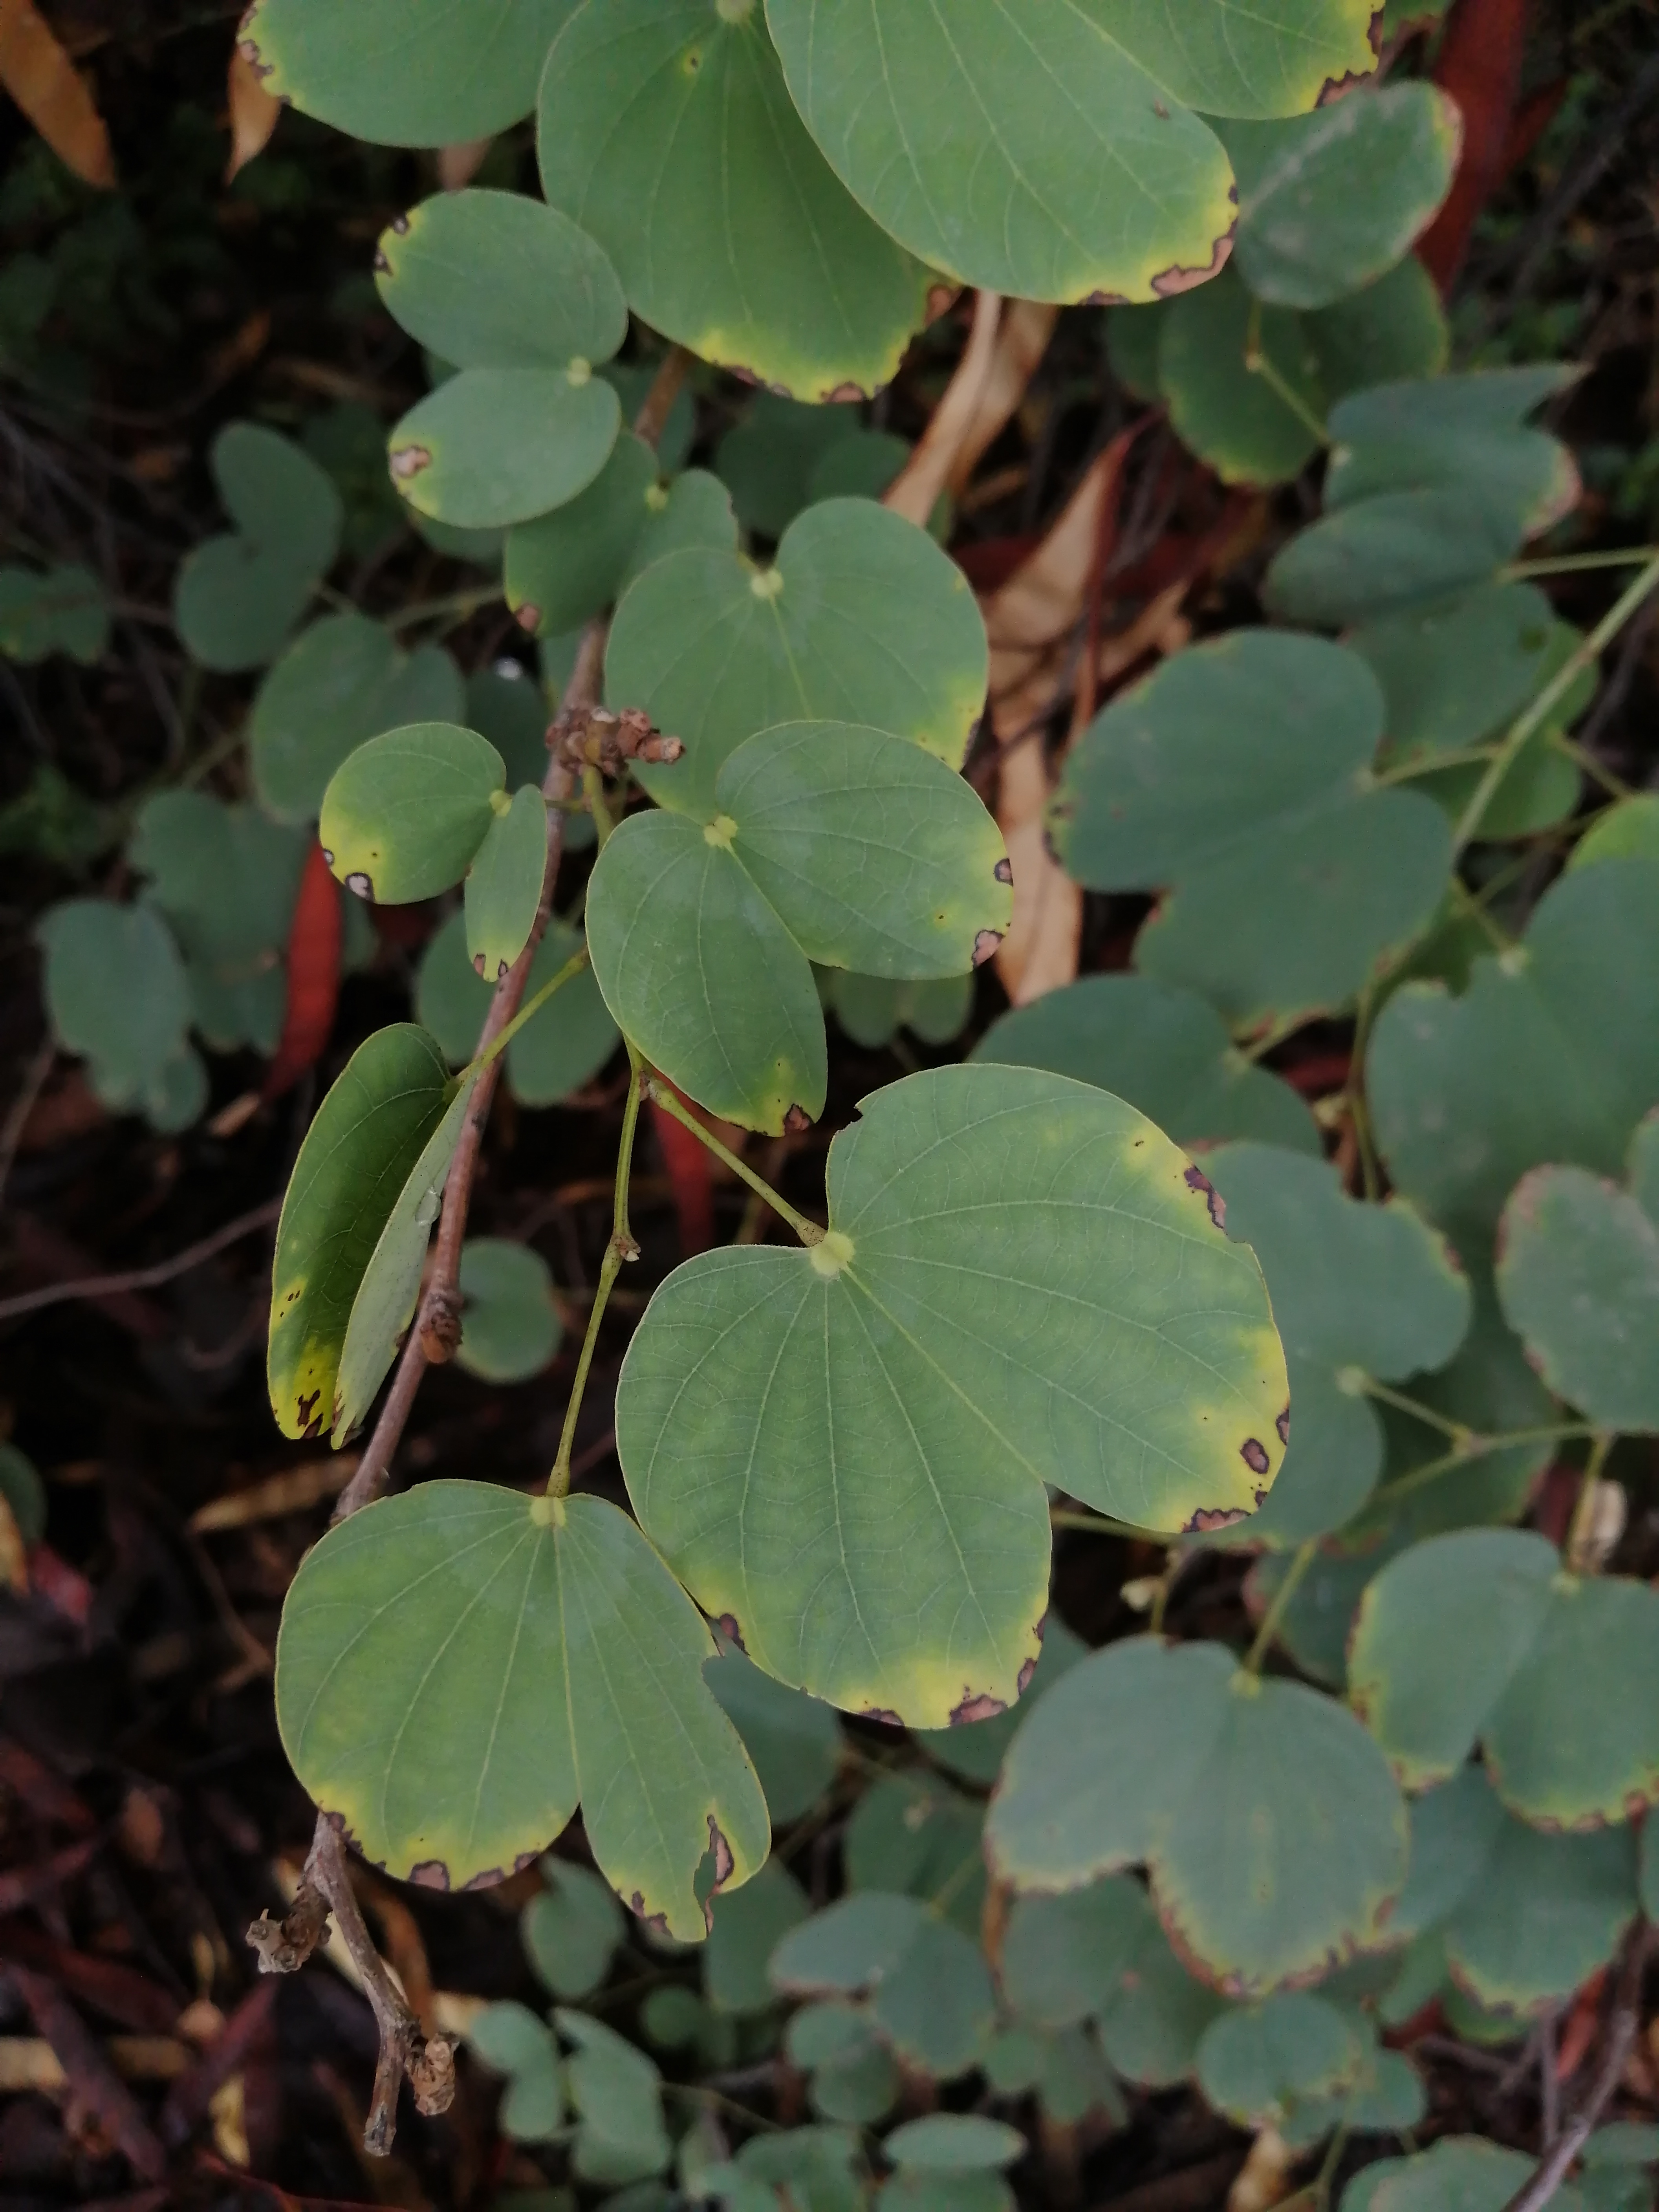nothealthy: (594, 1047, 1309, 1723), (251, 1472, 793, 1959), (760, 3, 1396, 317), (575, 725, 1026, 1141), (1344, 1508, 1657, 1851), (362, 165, 634, 561)
